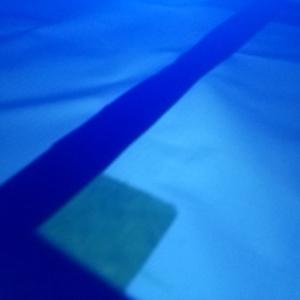bottom_right: (16, 175, 176, 293)
